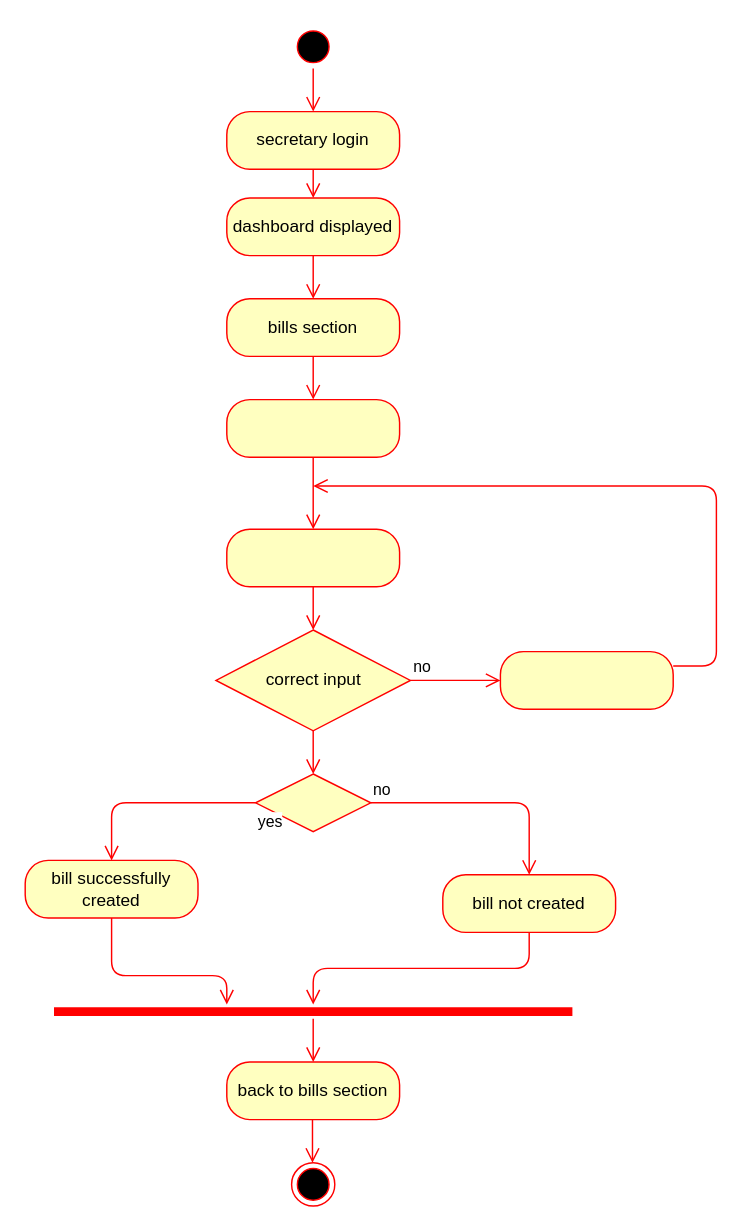
Image size: 756x1231. Some labels were removed from this diagram. Each missing label, with the centre of its shape:
create bill: point (312, 427)
fill bill form: point (312, 557)
save: point (312, 802)
show error fields: point (586, 679)
